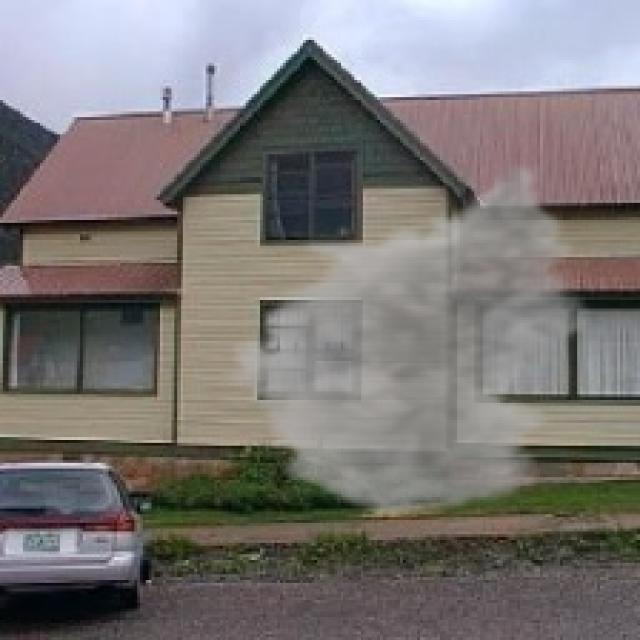Smoke: (217, 160, 600, 520)
